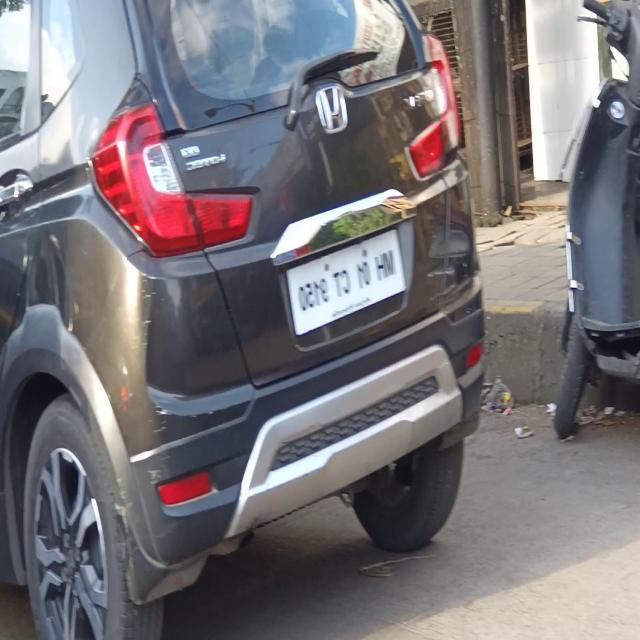license_plate: (277, 213, 416, 347)
